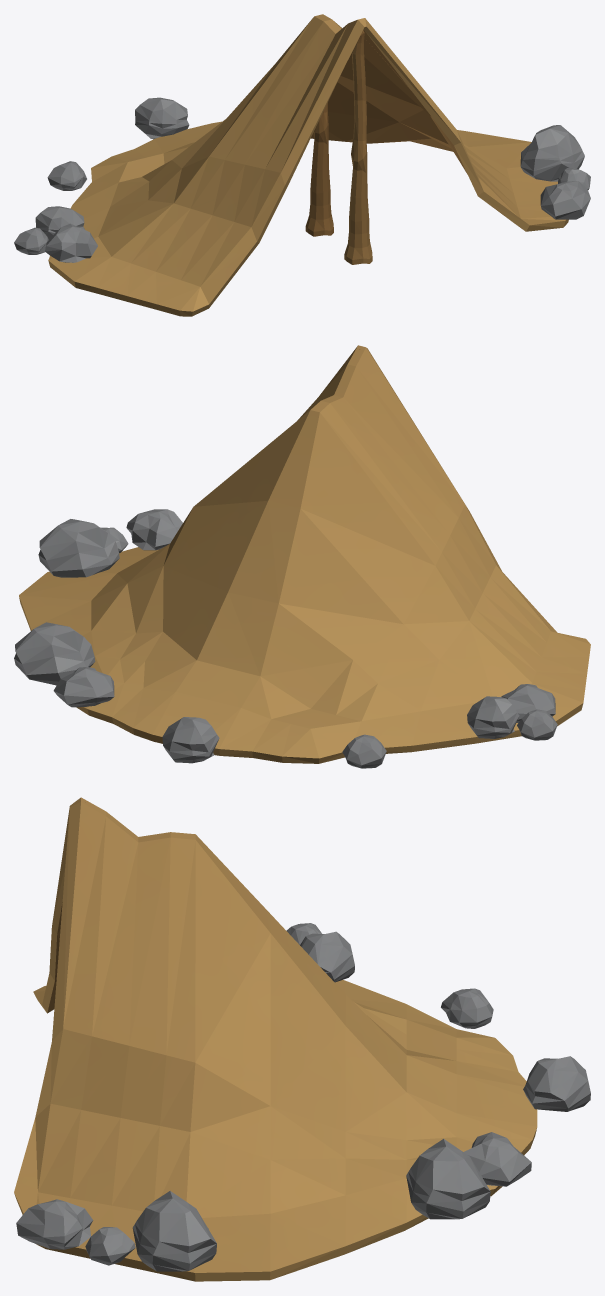
The model's file is tent.obj.
3 renders of one model, top to bottom at view 1: azimuth 30°, elevation 25°; view 2: azimuth 150°, elevation 25°; view 3: azimuth 270°, elevation 25°, orthographic. The views are drawn at different scales.
Parts seen in each view (by area): view 1: tent_Material; view 2: tent_Material; view 3: tent_Material.
Part boxes in pixels (bbox=[...]): tent_Material: bbox=[14, 14, 590, 316]; tent_Material: bbox=[14, 345, 590, 768]; tent_Material: bbox=[14, 797, 590, 1281].
Size of the model in its own units: 4.61 by 2.07 by 3.34.
